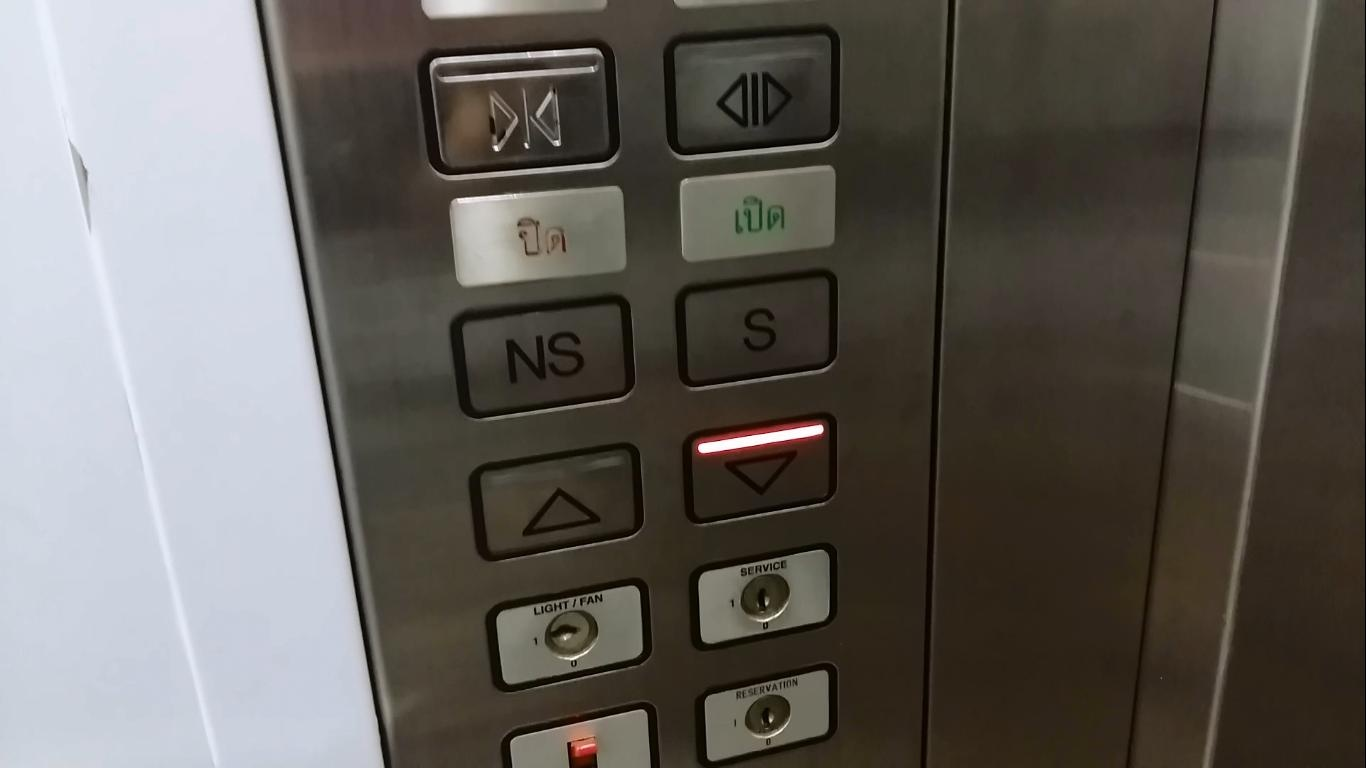NS: (444, 285, 646, 422)
S: (670, 260, 848, 395)
bt_keyhole: (482, 570, 659, 694), (686, 534, 844, 656), (697, 656, 850, 768)
close: (415, 35, 627, 183)
down: (672, 405, 846, 527)
open: (659, 22, 851, 162)
up: (462, 434, 651, 569)
